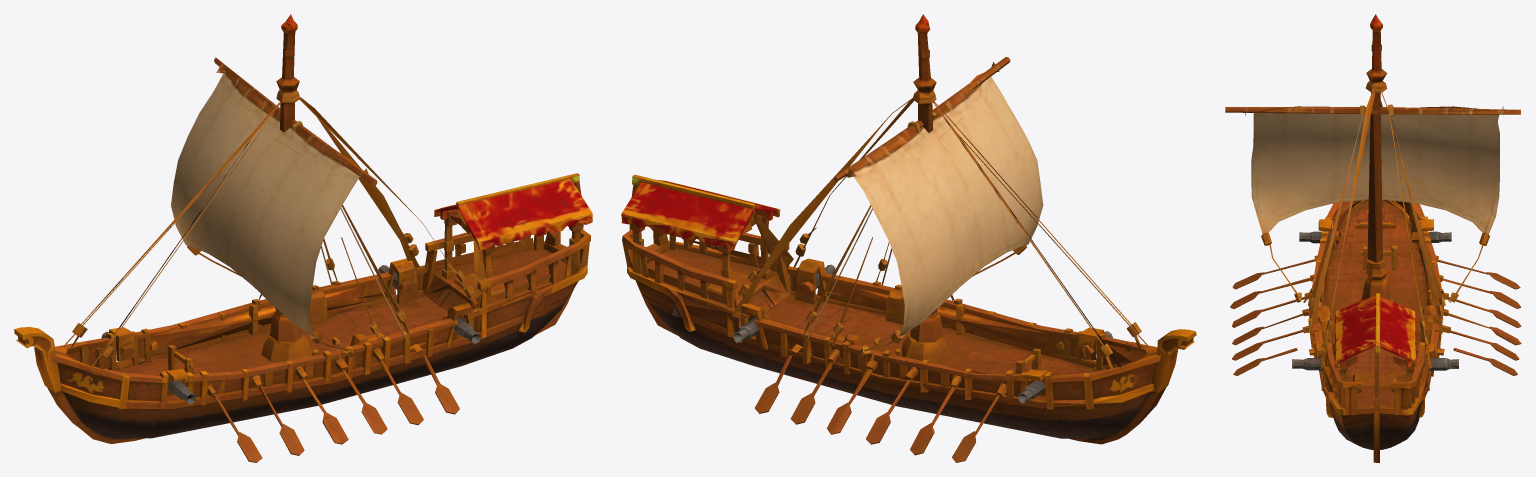
File: maratha_navy_gallivat.glb
3 views of the same model, side by side, from view 1: azimuth 30°, elevation 25°; view 2: azimuth 150°, elevation 25°; view 3: azimuth 270°, elevation 25° (orthographic). The views are drawn at different scales.
Visible parts, largest first — view 1: mesh_000; view 2: mesh_000; view 3: mesh_000.
Part boxes in pixels (box(x1,y1,x2,y2)): mesh_000: box(14, 14, 592, 462); mesh_000: box(621, 14, 1196, 462); mesh_000: box(1225, 14, 1521, 462).
Bounding box in the file's own units: 0.9541 × 0.6275 × 0.4858.
Materials: 1 (1 with a texture image).
